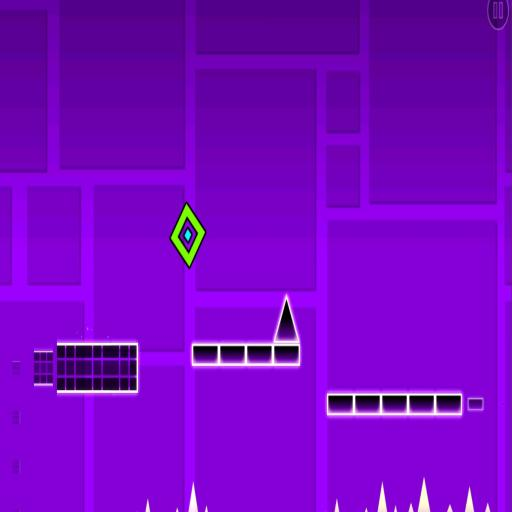block: (55, 340, 142, 400), (325, 389, 465, 418), (190, 339, 303, 373), (31, 348, 56, 388), (466, 394, 486, 414)
player: (170, 202, 206, 268)
spike: (274, 295, 298, 342), (418, 478, 430, 511), (189, 483, 198, 511), (378, 483, 387, 511), (466, 488, 474, 511), (335, 500, 339, 511), (146, 500, 150, 511), (409, 504, 413, 511), (448, 505, 452, 511), (486, 504, 489, 511), (365, 508, 368, 512), (176, 508, 179, 512), (206, 506, 207, 511), (395, 507, 396, 511)
